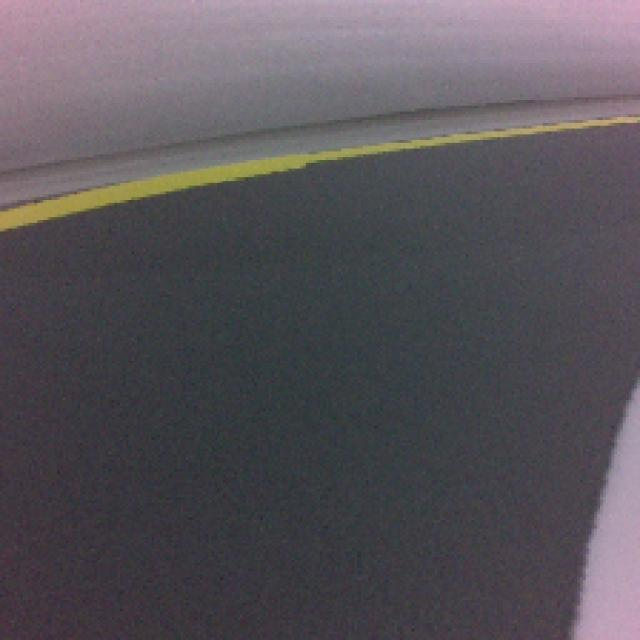Road: (0, 374, 566, 640)
